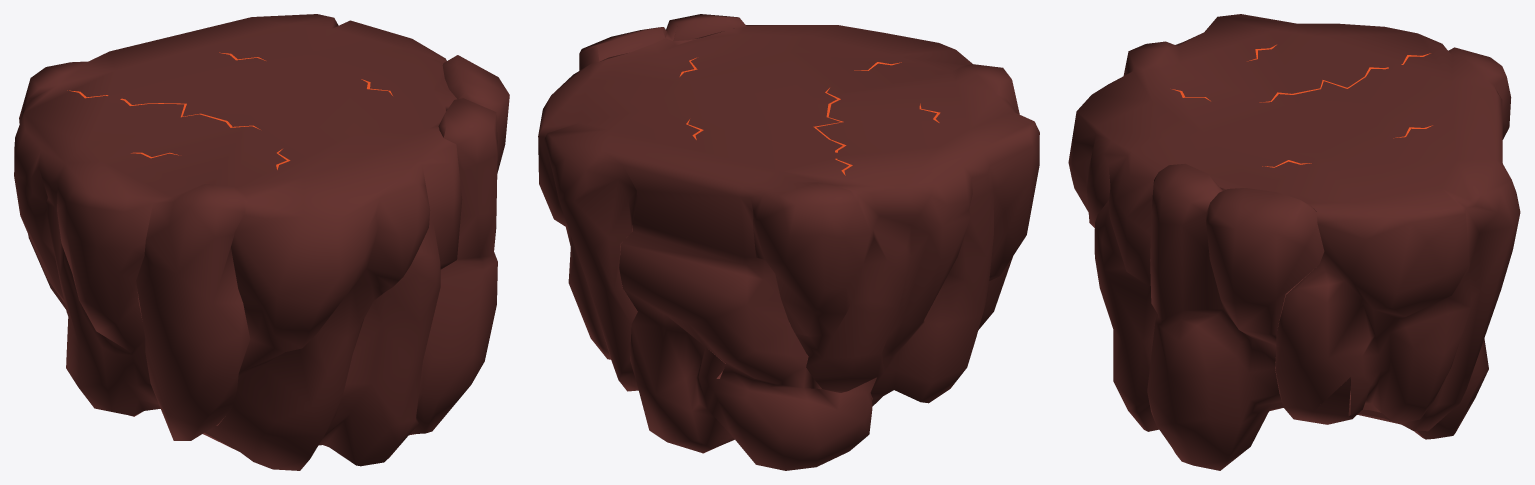
Rendered from Island.fbx.
3 renders of one model, left to right at view 1: azimuth 30°, elevation 25°; view 2: azimuth 150°, elevation 25°; view 3: azimuth 270°, elevation 25°, orthographic. The views are drawn at different scales.
Parts seen in each view (by area): view 1: Island; view 2: Island; view 3: Island.
Boxes of the visible parts, x1,y1,x2,y2 form: Island: [14, 14, 509, 470]; Island: [538, 14, 1039, 470]; Island: [1068, 14, 1520, 470].
Bounding box in the file's own units: 724 × 505 × 650.
